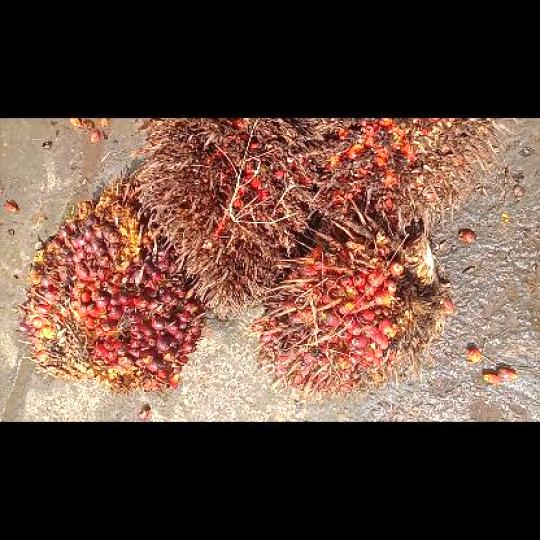masak: (17, 171, 206, 395), (248, 206, 452, 399)
terlalu masak: (128, 118, 319, 318), (312, 118, 512, 238)
